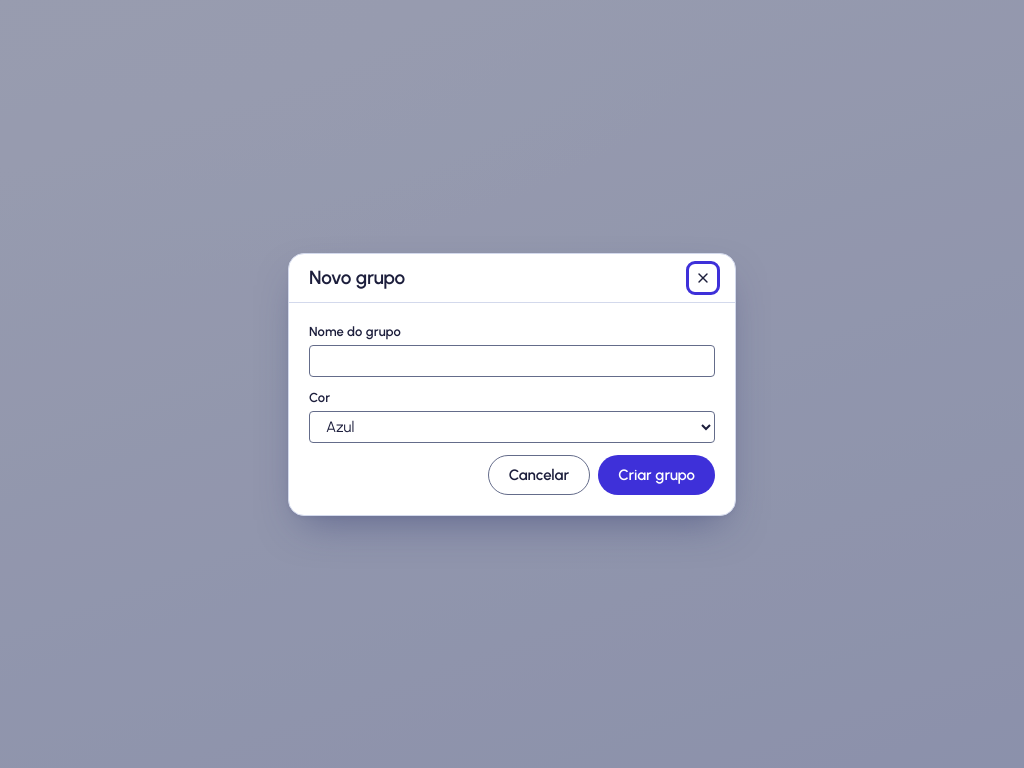
Test case: GrupoFormModal › erro do servidor aparece no formulário, sem fechar
Expected: the dialog "Novo grupo" is shown, [288, 252, 736, 516]
Type "Fase 2" into the field labelled "Nome do grupo" at (512, 360), box [309, 344, 715, 376]
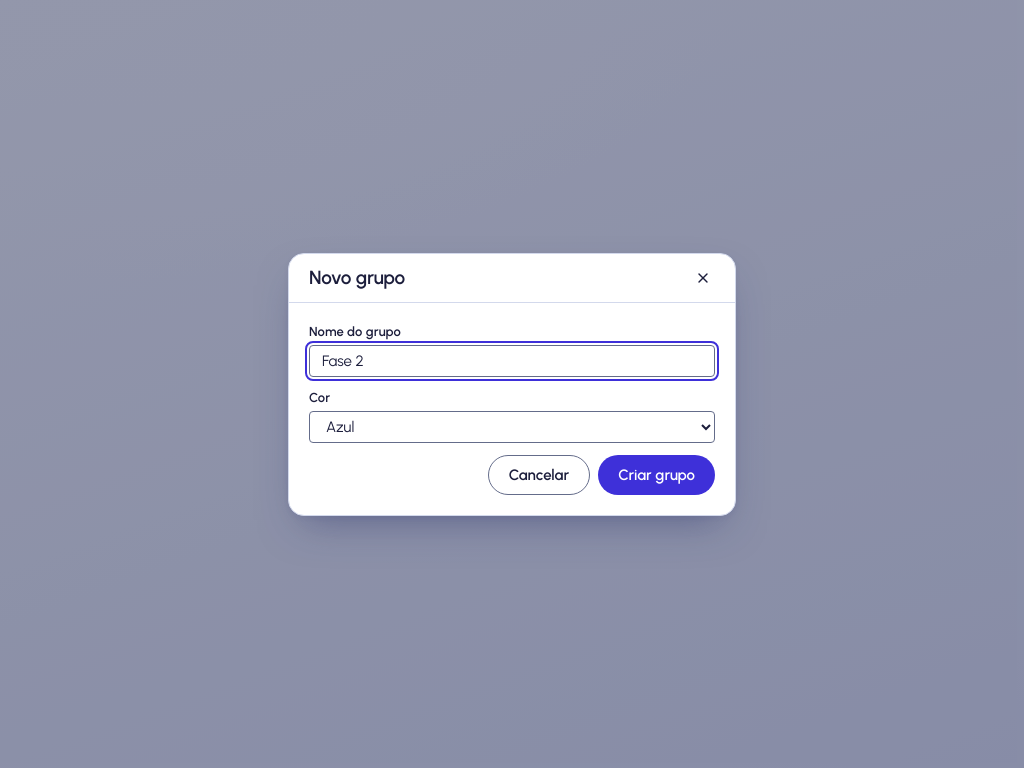
Click the button "Criar grupo" at (657, 474), box [598, 454, 715, 494]
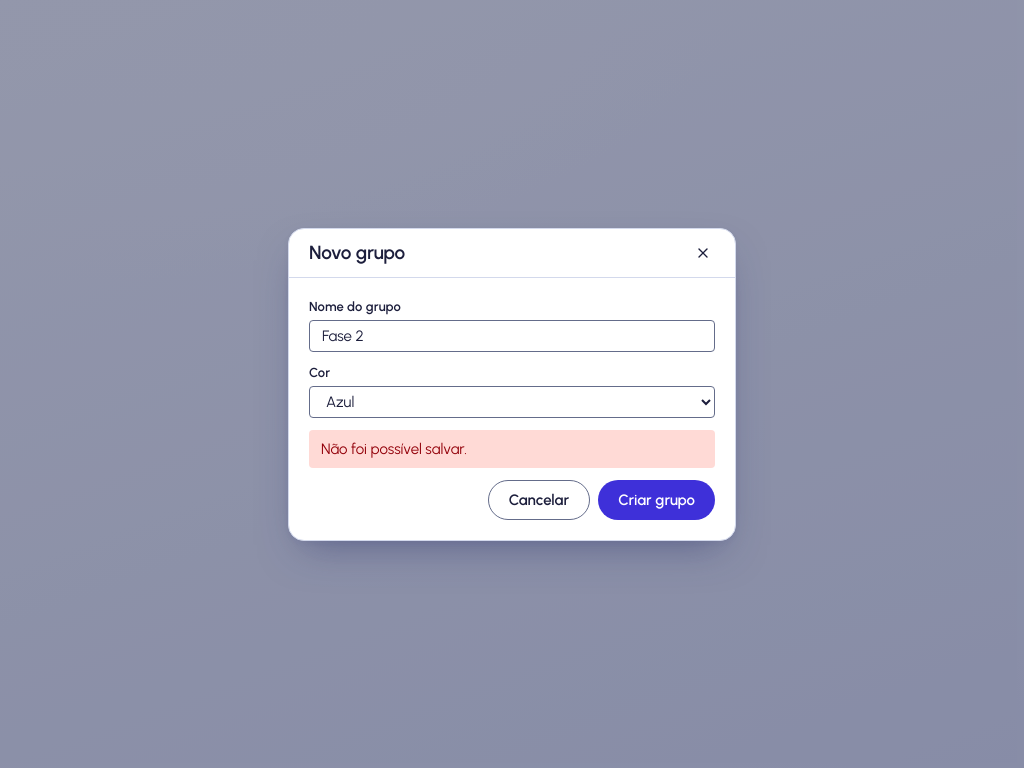
Expected: the message reads "Não foi possível salvar.", [321, 440, 467, 458]
